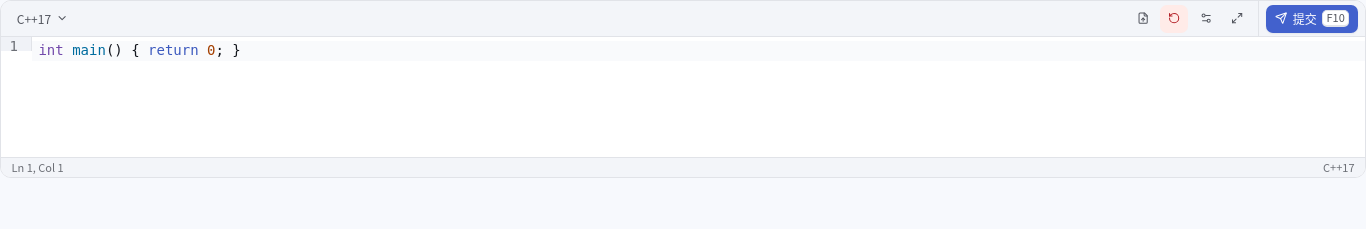
Scenario: krypton IDE problem submission › rejects an off-site redirect in an otherwise successful response
Click the button "提交 F10" at (1312, 18), box [1266,4,1358,32]
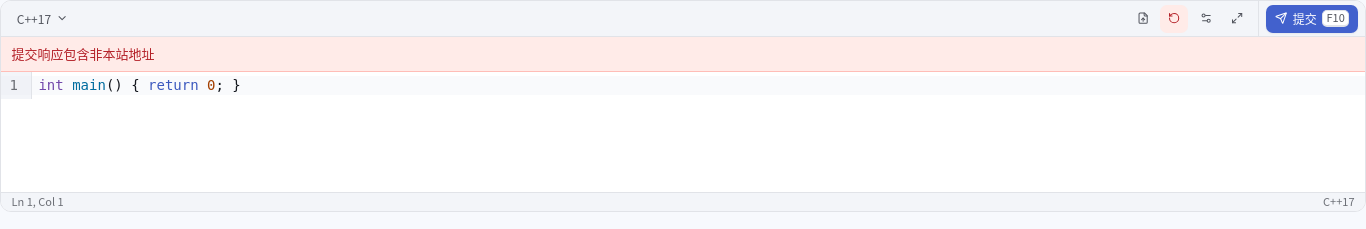
Check: the message reads "提交响应包含非本站地址", box [12,44,154,63]
